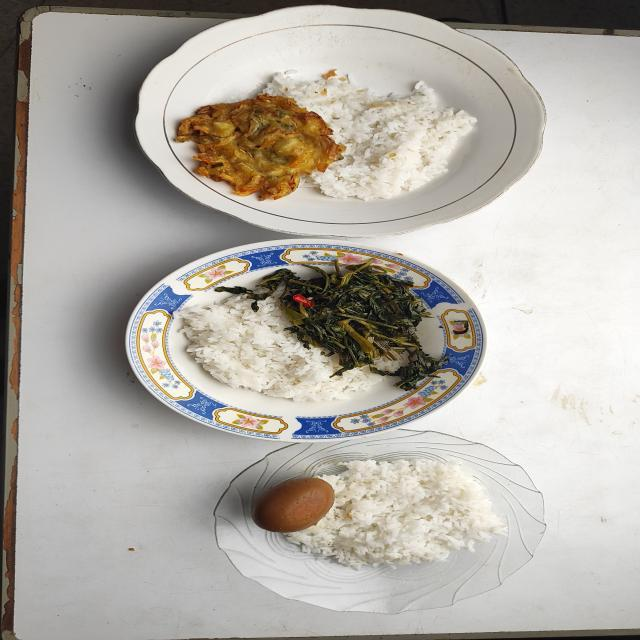nasi_putih: (264, 70, 476, 202), (290, 460, 506, 570), (179, 284, 378, 402)
tumis_kangkung: (240, 260, 440, 390)
